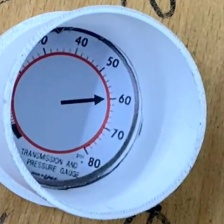gauge: (12, 28, 139, 188)
